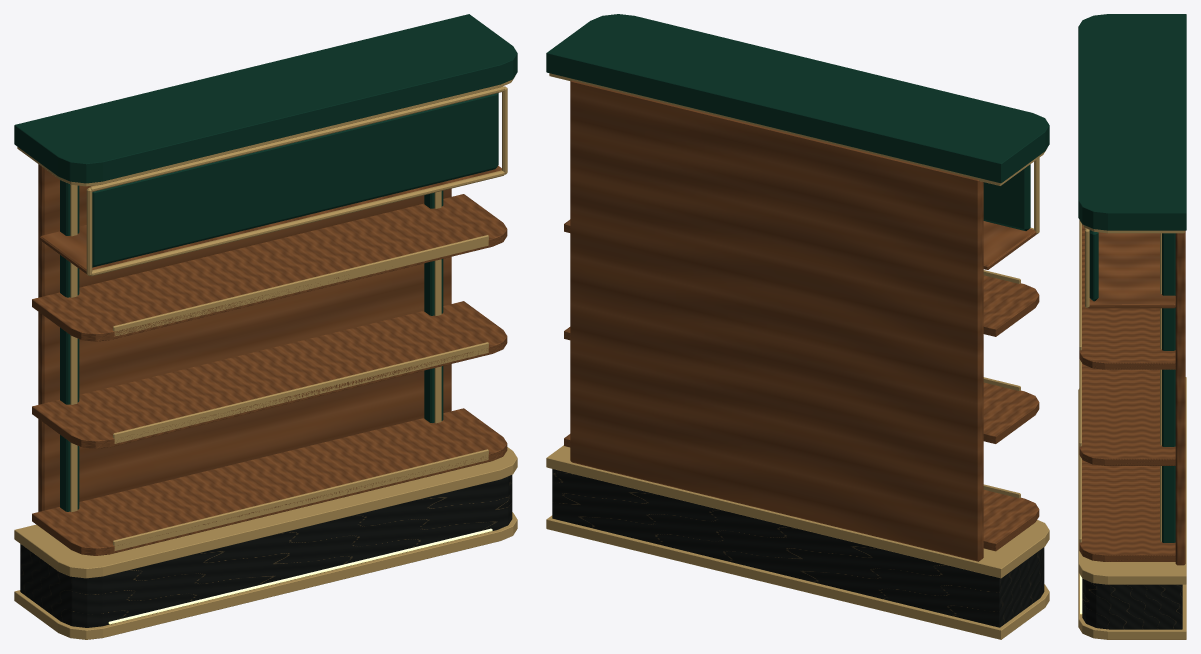
The picture shows the model from 3 angles, left to right: view 1: azimuth 30°, elevation 25°; view 2: azimuth 150°, elevation 25°; view 3: azimuth 270°, elevation 25°; orthographic projection. The views are drawn at different scales.
Parts seen in each view (by area): view 1: cabinet_back, cabinet_crown, brand_header_panel, cabinet_stone_base, shelf_2, shelf_3, shelf_1, trim_base_top, trim_base_plinth, price_rail_1, price_rail_2, price_rail_3 (+9 smaller); view 2: cabinet_back, cabinet_crown, cabinet_stone_base, trim_base_top, trim_base_plinth, shelf_2, shelf_1, shelf_3, brand_header_panel, brand_header_light_canopy, trim_crown_lip; view 3: cabinet_crown, shelf_2, shelf_1, shelf_3, brand_header_light_canopy, cabinet_stone_base, cabinet_back, cabinet_right_rear_post, trim_base_top, trim_base_plinth, brand_header_panel, trim_right_post (+5 smaller).
Part boxes in pixels (x1,y1,x2,y2): cabinet_back: (38, 164, 451, 511); cabinet_crown: (14, 14, 517, 183); brand_header_panel: (92, 93, 498, 267); cabinet_stone_base: (20, 475, 512, 627); shelf_2: (32, 301, 507, 448); shelf_3: (32, 194, 507, 341); shelf_1: (32, 408, 507, 555); trim_base_top: (14, 447, 517, 578); trim_base_plinth: (14, 512, 517, 639); price_rail_1: (113, 449, 488, 550); price_rail_2: (113, 342, 488, 443); price_rail_3: (113, 235, 488, 336); cabinet_back: (570, 80, 983, 561); cabinet_crown: (546, 14, 1049, 183); cabinet_stone_base: (552, 469, 1044, 627); trim_base_top: (546, 445, 1049, 578); trim_base_plinth: (546, 515, 1049, 639); shelf_2: (564, 327, 1039, 443); shelf_1: (564, 434, 1039, 551); shelf_3: (564, 219, 1039, 336); brand_header_panel: (983, 164, 1030, 230); brand_header_light_canopy: (983, 221, 1036, 269); trim_crown_lip: (549, 73, 1046, 185); cabinet_crown: (1078, 14, 1186, 230); shelf_2: (1079, 363, 1175, 465); shelf_1: (1079, 459, 1175, 561); shelf_3: (1079, 224, 1175, 369); brand_header_light_canopy: (1088, 232, 1175, 308); cabinet_stone_base: (1082, 578, 1182, 629); cabinet_back: (1175, 230, 1185, 565); cabinet_right_rear_post: (1162, 233, 1175, 542); trim_base_top: (1078, 377, 1186, 584); trim_base_plinth: (1078, 572, 1186, 639); brand_header_panel: (1089, 230, 1098, 301); trim_right_post: (1160, 233, 1161, 541).
Size of the model in its own units: 2.4 by 2.4 by 0.55.
Materials: 5 (2 with a texture image).
